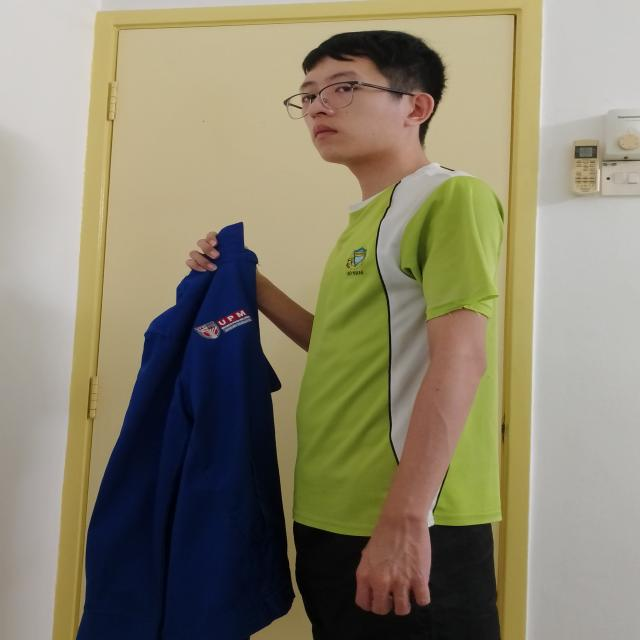person_without_labcoat: (78, 31, 503, 640)
